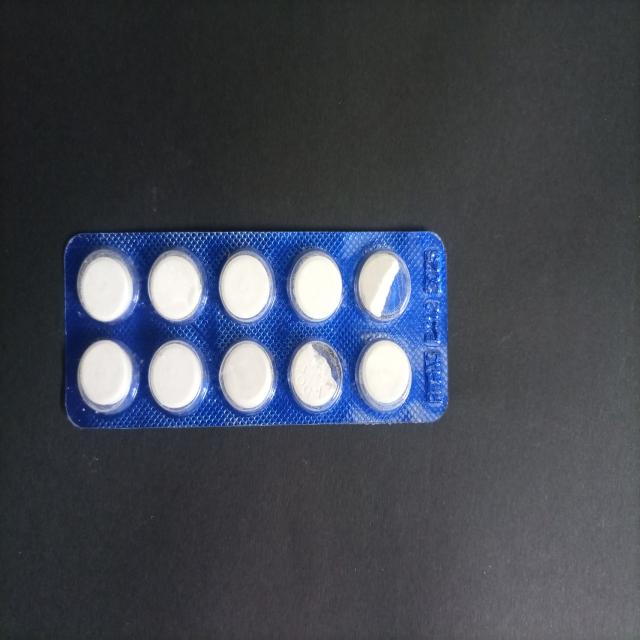defect: (352, 244, 413, 326), (286, 336, 346, 416)
